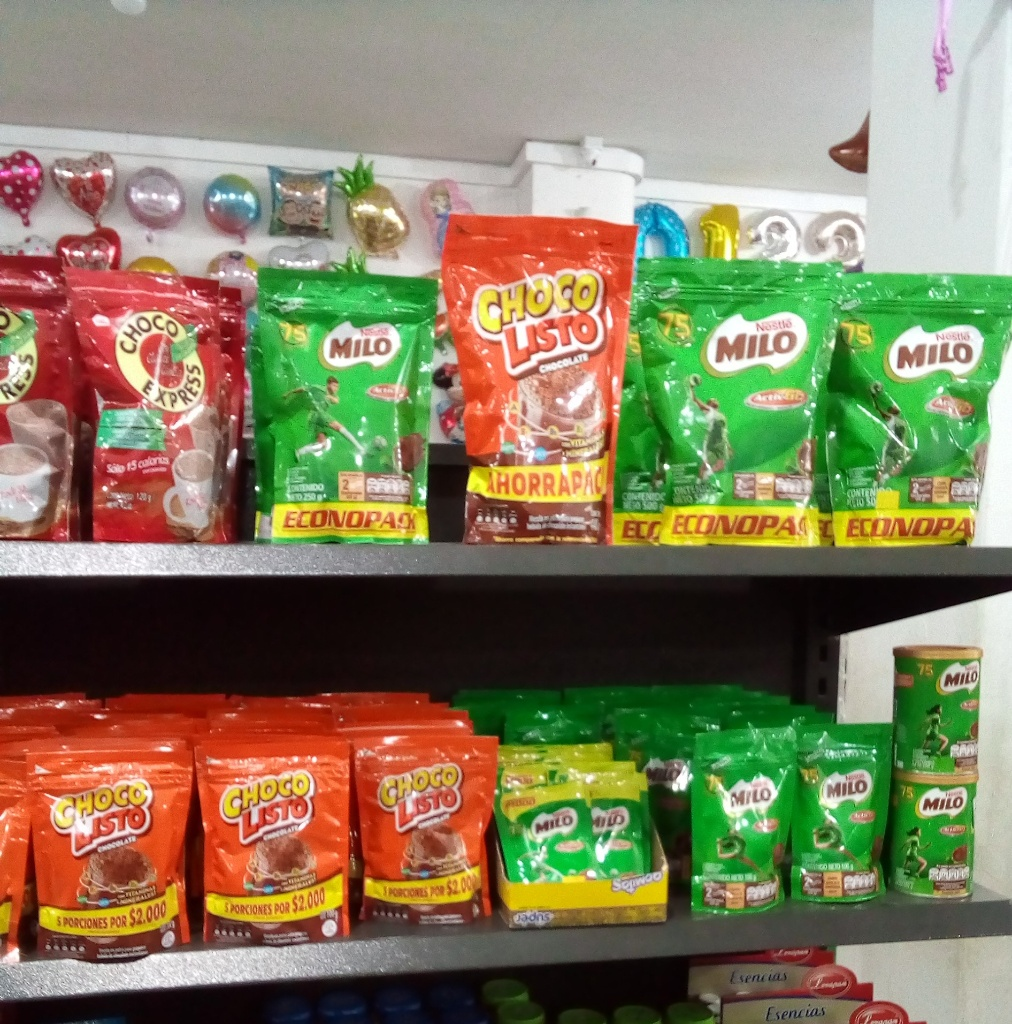COL0170103DYP10000: (30, 748, 191, 956)
COL0170103DYP40000: (439, 194, 642, 545)
COL0170203DYP10000: (667, 713, 794, 922)
COL0170203DYP25000: (257, 266, 435, 546)
COL0170203DYP50000: (634, 237, 833, 548)
COL0170203LAT20000: (896, 640, 981, 778)
